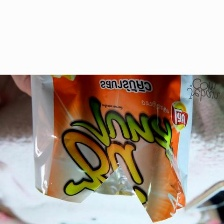snack: (23, 75, 200, 224)
